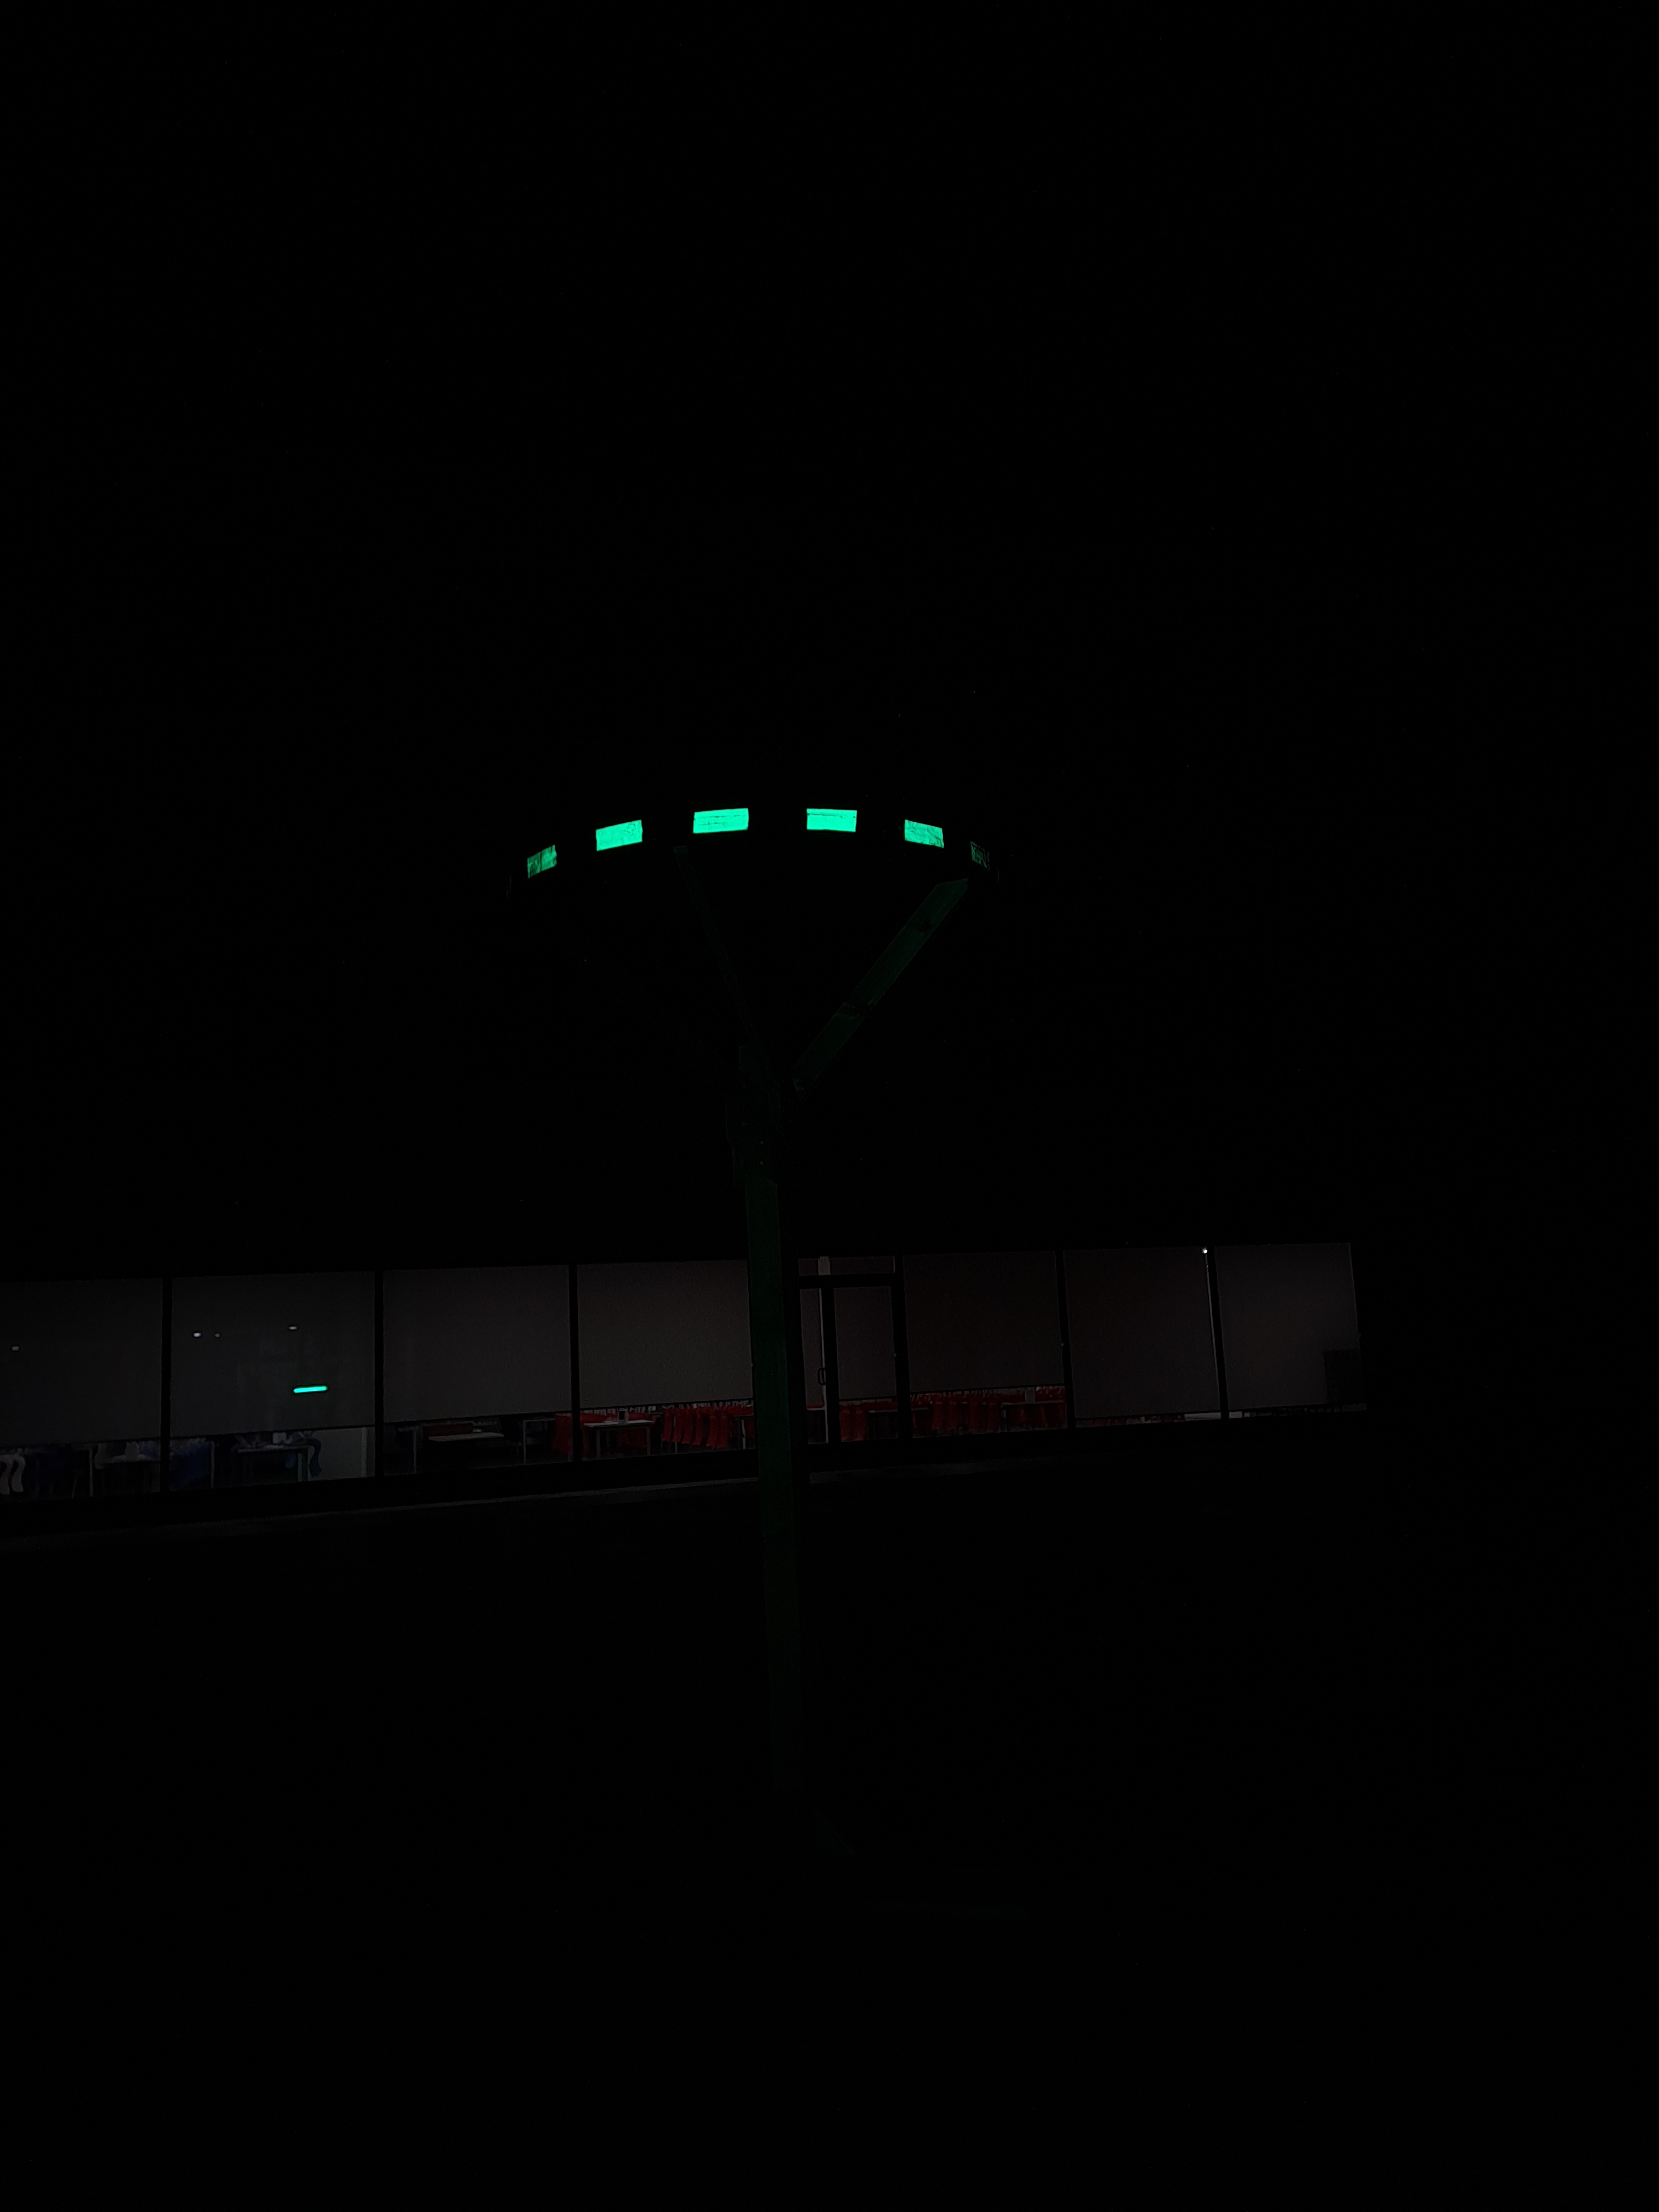hoop: (495, 805, 950, 888)
